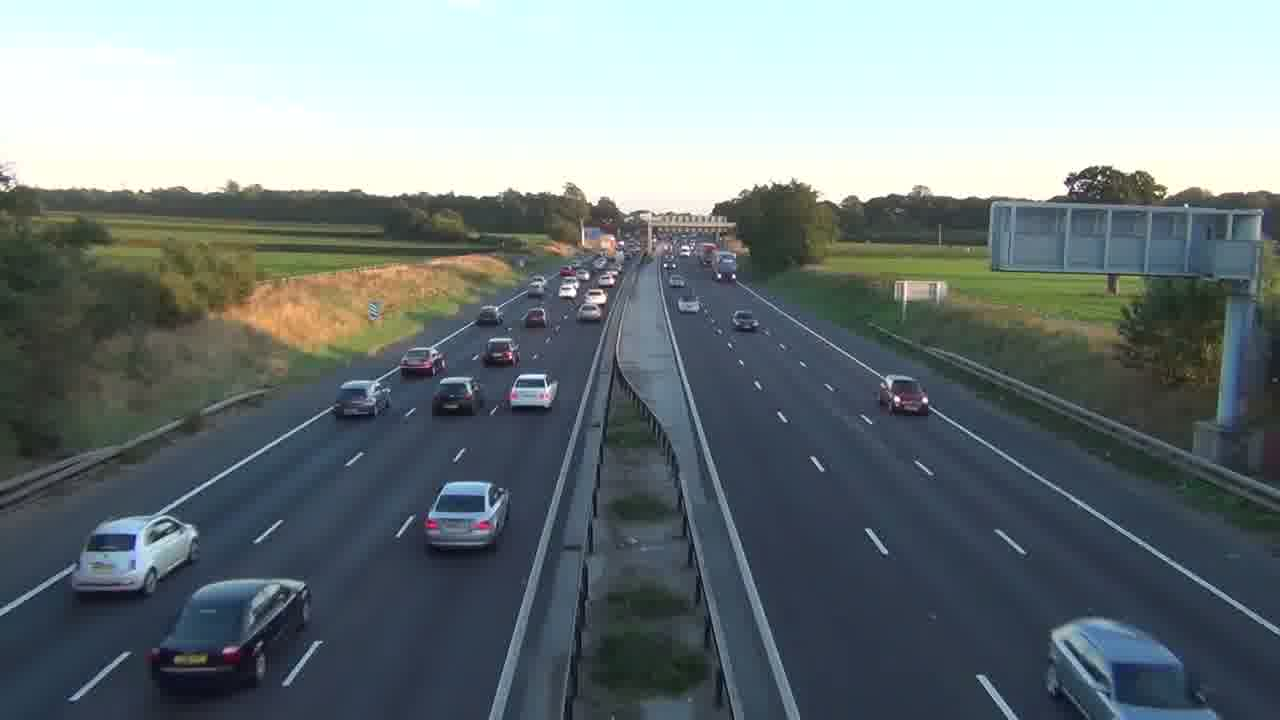car: (147, 576, 312, 692), (70, 513, 199, 599), (422, 480, 511, 551), (334, 379, 392, 419), (878, 374, 930, 416), (507, 372, 559, 412), (432, 376, 482, 416), (400, 347, 447, 377), (481, 335, 520, 367), (731, 309, 759, 332)
truck: (1043, 615, 1220, 719)
